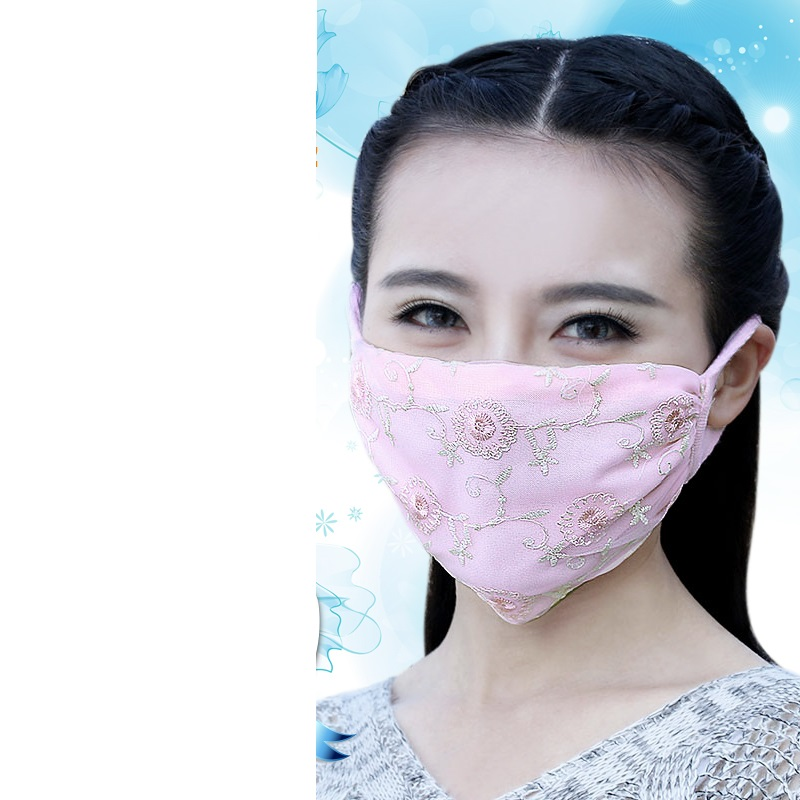face_mask: (358, 139, 687, 616)
